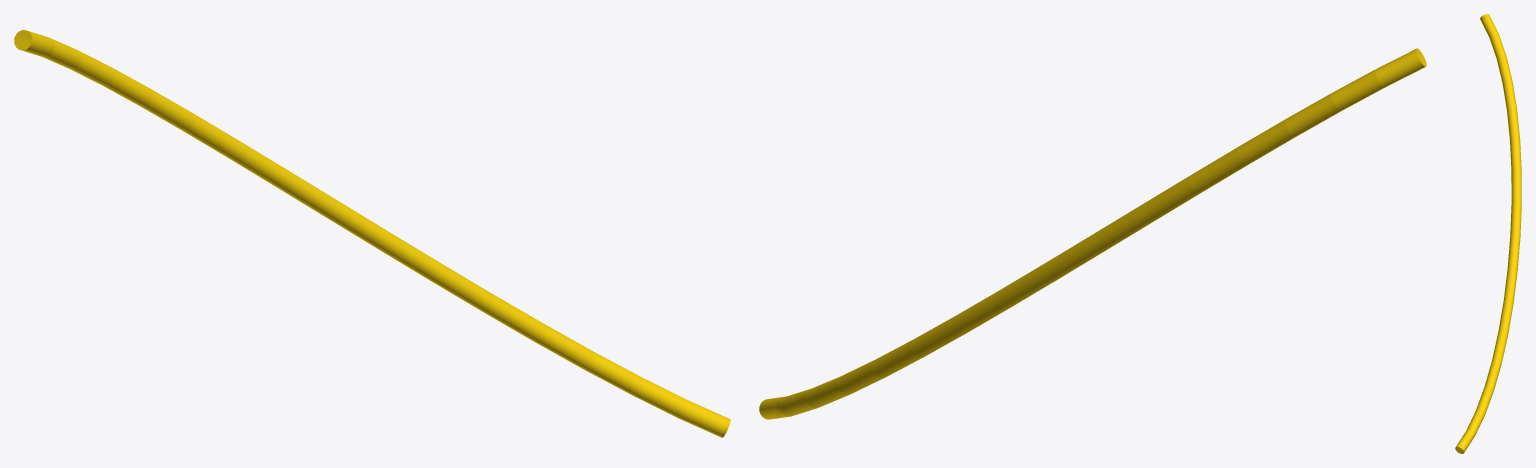
The model's file is Event_421556567_track_30.fbx.
The picture shows the model from 3 angles, left to right: view 1: azimuth 30°, elevation 25°; view 2: azimuth 150°, elevation 25°; view 3: azimuth 270°, elevation 25°; orthographic projection. The views are drawn at different scales.
Parts seen in each view (by area): view 1: Model; view 2: Model; view 3: Model.
Part boxes in pixels (box(x1,y1,x2,y2)): Model: box(14, 30, 730, 437); Model: box(759, 48, 1426, 419); Model: box(1455, 14, 1521, 453).
Size of the model in its own units: 1.55 by 1.18 by 0.259.
